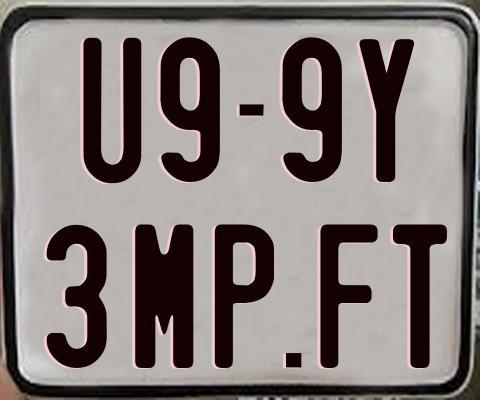3: (45, 223, 105, 367)
9: (158, 37, 222, 186), (281, 35, 341, 182)
F: (320, 221, 382, 369)
M: (134, 223, 198, 368)
P: (215, 221, 279, 368)
T: (393, 222, 447, 366)
U: (82, 37, 144, 183)
Y: (357, 38, 413, 182)
